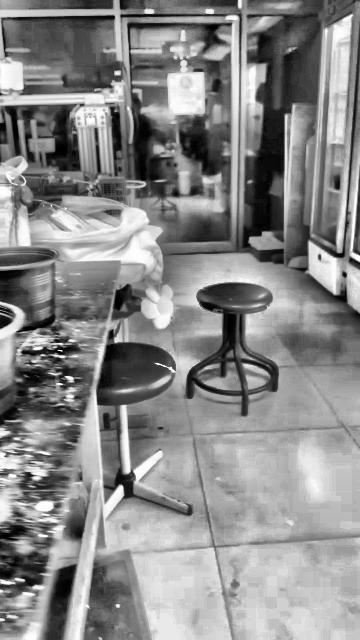pot: (0, 246, 58, 329), (0, 303, 23, 423)
